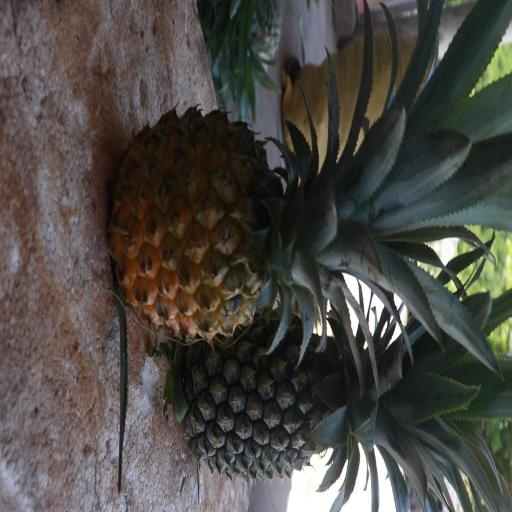Pineapple - v8 v1: (118, 99, 460, 334)
